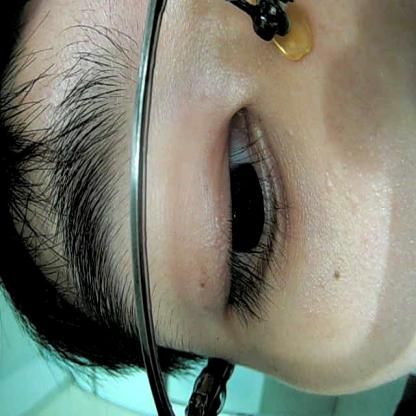Down: (198, 96, 296, 333)
